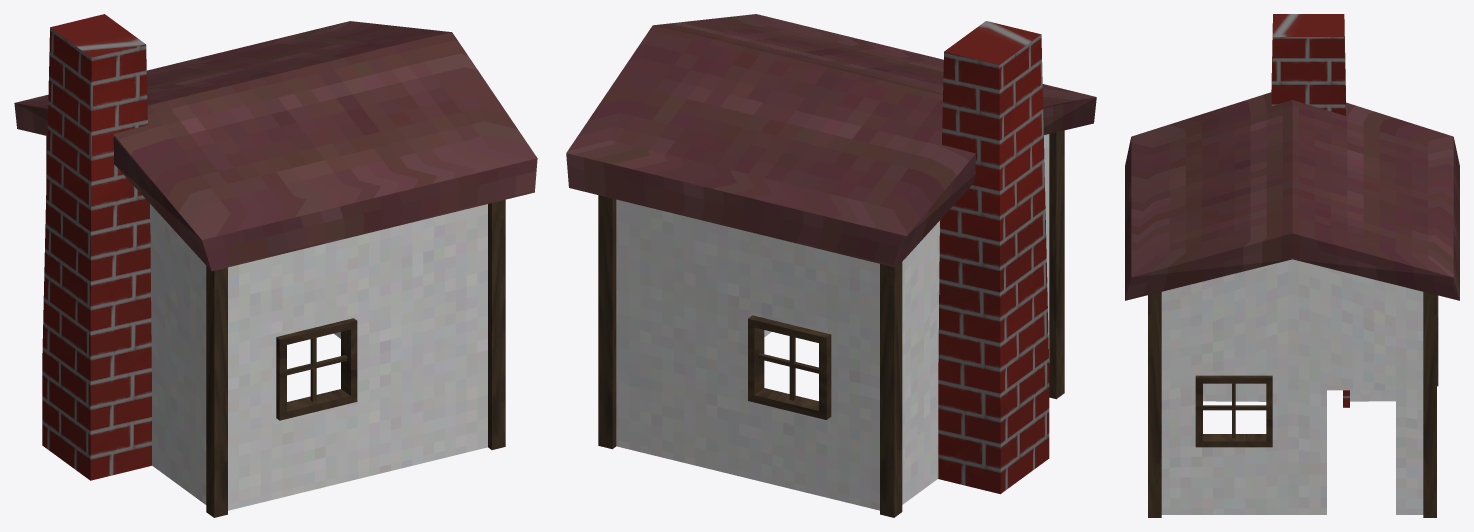
Rendered from House.fbx.
The picture shows the model from 3 angles, left to right: view 1: azimuth 30°, elevation 25°; view 2: azimuth 150°, elevation 25°; view 3: azimuth 270°, elevation 25°; orthographic projection. The views are drawn at different scales.
Parts seen in each view (by area): view 1: House, Window; view 2: House, Window; view 3: House, Window.
Boxes of the visible parts, left/top/right/bottom form: House: left=14, top=14, right=537, bottom=517; Window: left=276, top=318, right=357, bottom=420; House: left=566, top=14, right=1096, bottom=517; Window: left=748, top=315, right=831, bottom=419; House: left=1125, top=14, right=1459, bottom=517; Window: left=1195, top=295, right=1438, bottom=447.
Bounding box in the file's own units: 542 × 577 × 485.
4 materials, 4 textured.
